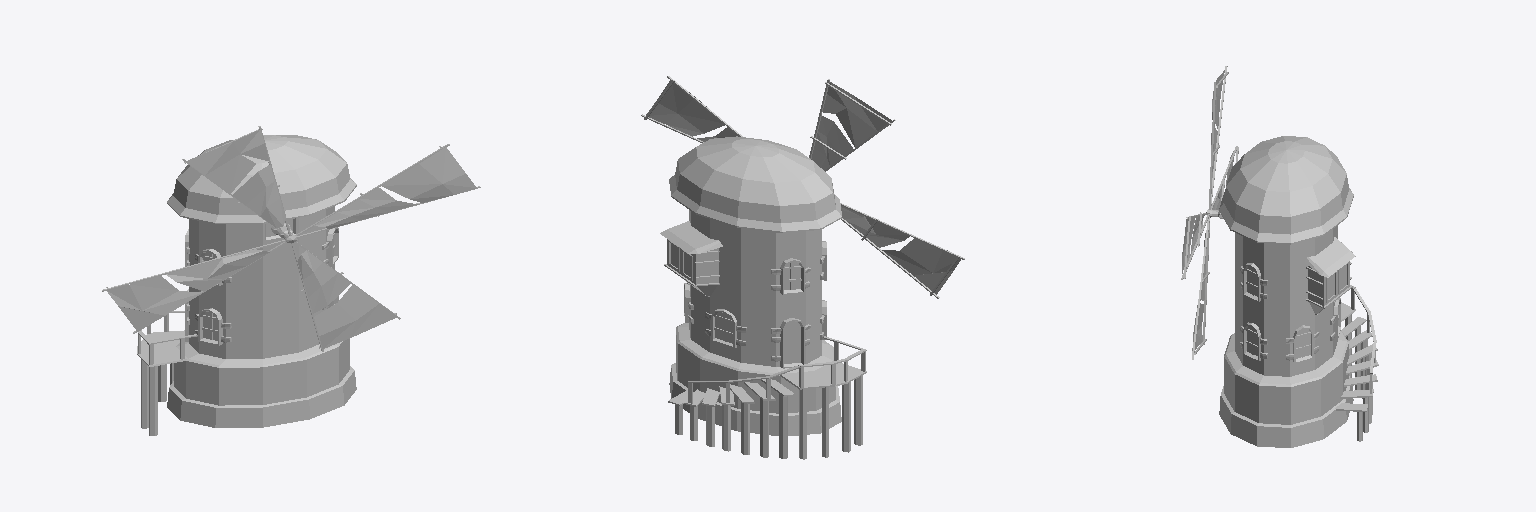
File: molino.obj
3 renders of one model, left to right at view 1: azimuth 30°, elevation 25°; view 2: azimuth 150°, elevation 25°; view 3: azimuth 270°, elevation 25°, orthographic.
Parts seen in each view (by area): view 1: mill; view 2: mill; view 3: mill.
Part boxes in pixels (x1,y1,x2,y2): mill: (102,126,480,435); mill: (641,76,964,459); mill: (1181,66,1378,447).
Bounding box in the file's own units: 11.48 × 9.99 × 5.6.